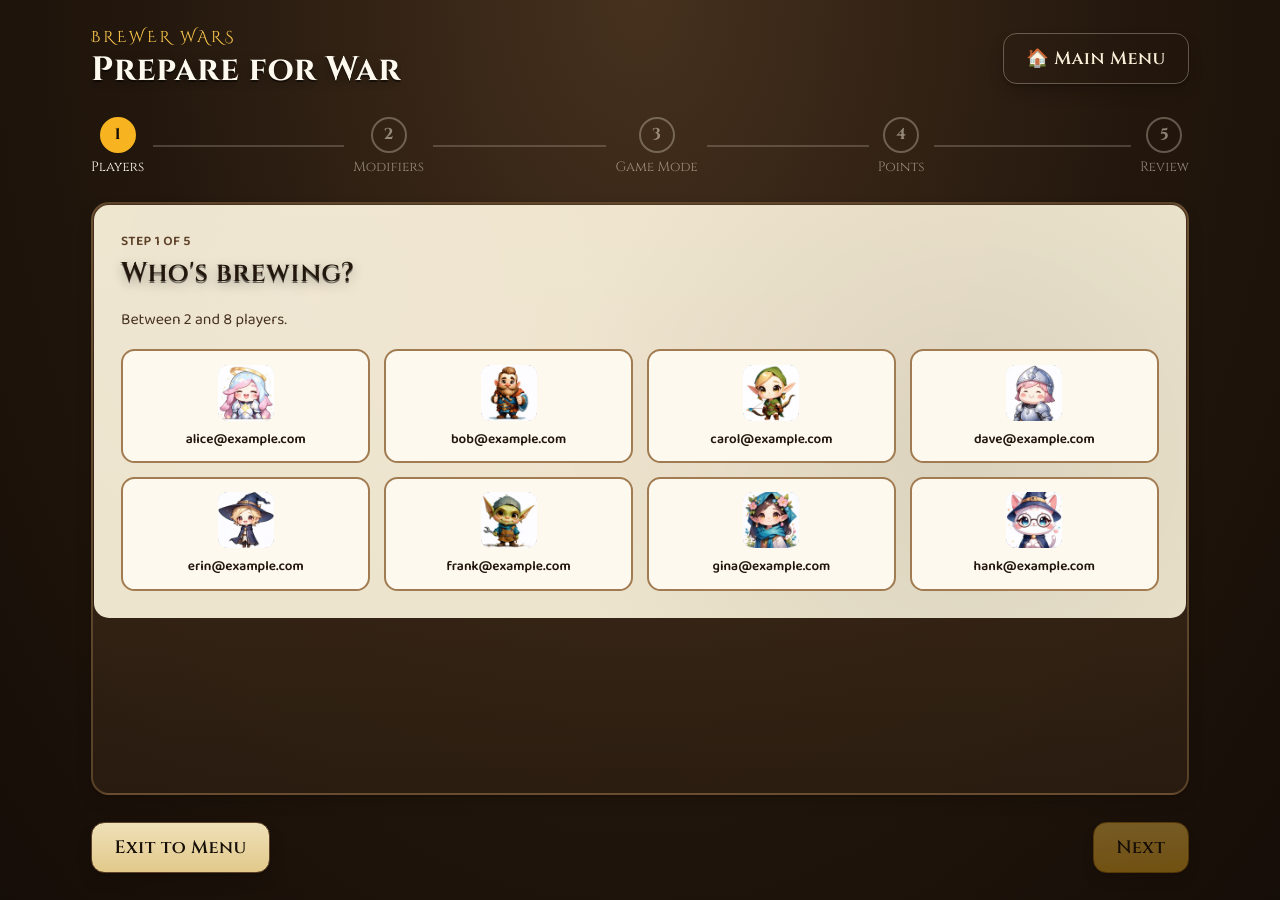
Test: WizardPage › toggles a card off when clicked again, dropping the player count below MIN_PLAYERS is allowed by the grid (Next disables itself)
What coordinates should you click on to do the following:
click the button "alice@example.com"
I would click on:
 (246, 406)
Its box is [121,350,370,464].
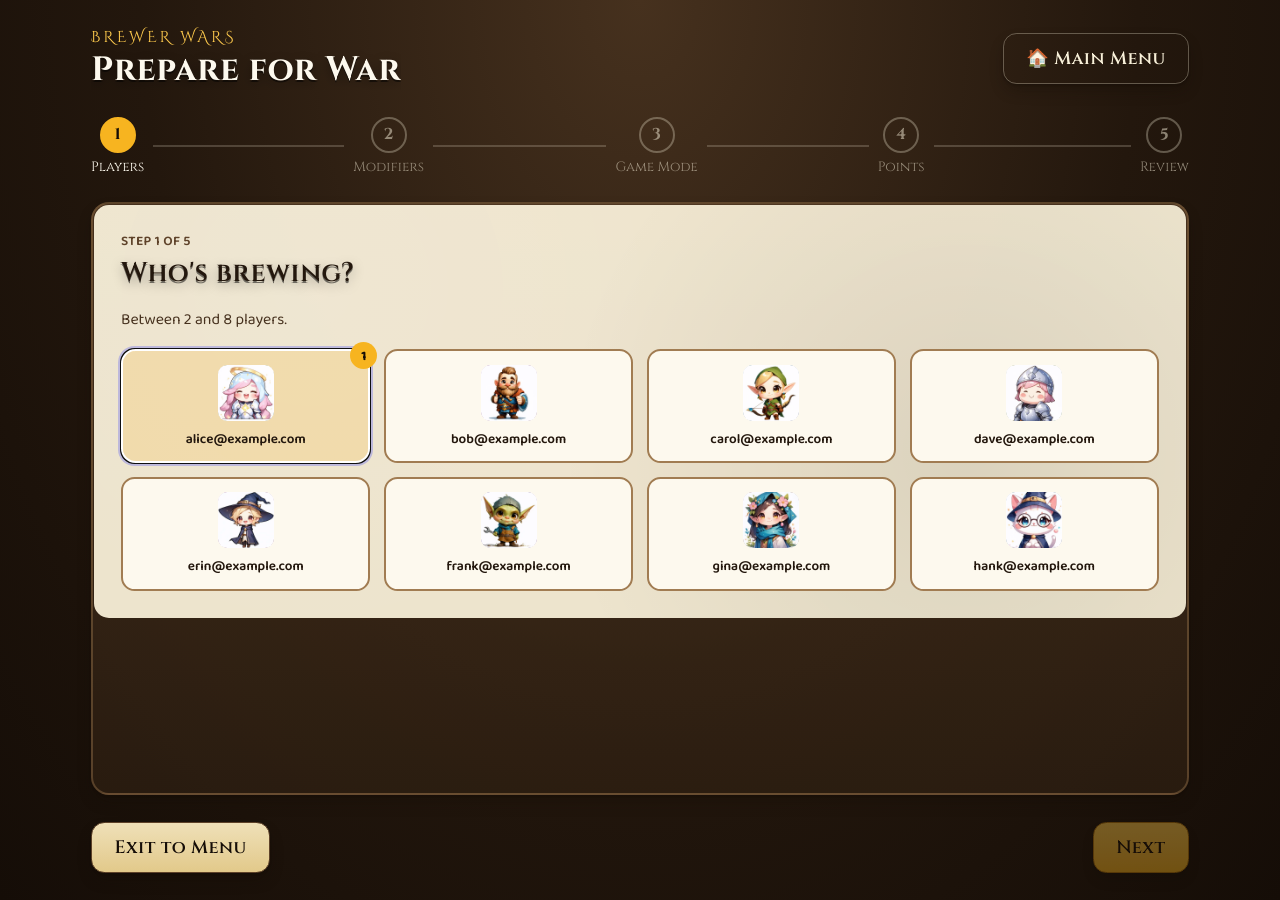
What coordinates should you click on to do the following:
click the button "bob@example.com"
I would click on:
 (509, 406)
Its box is [384,350,633,464].
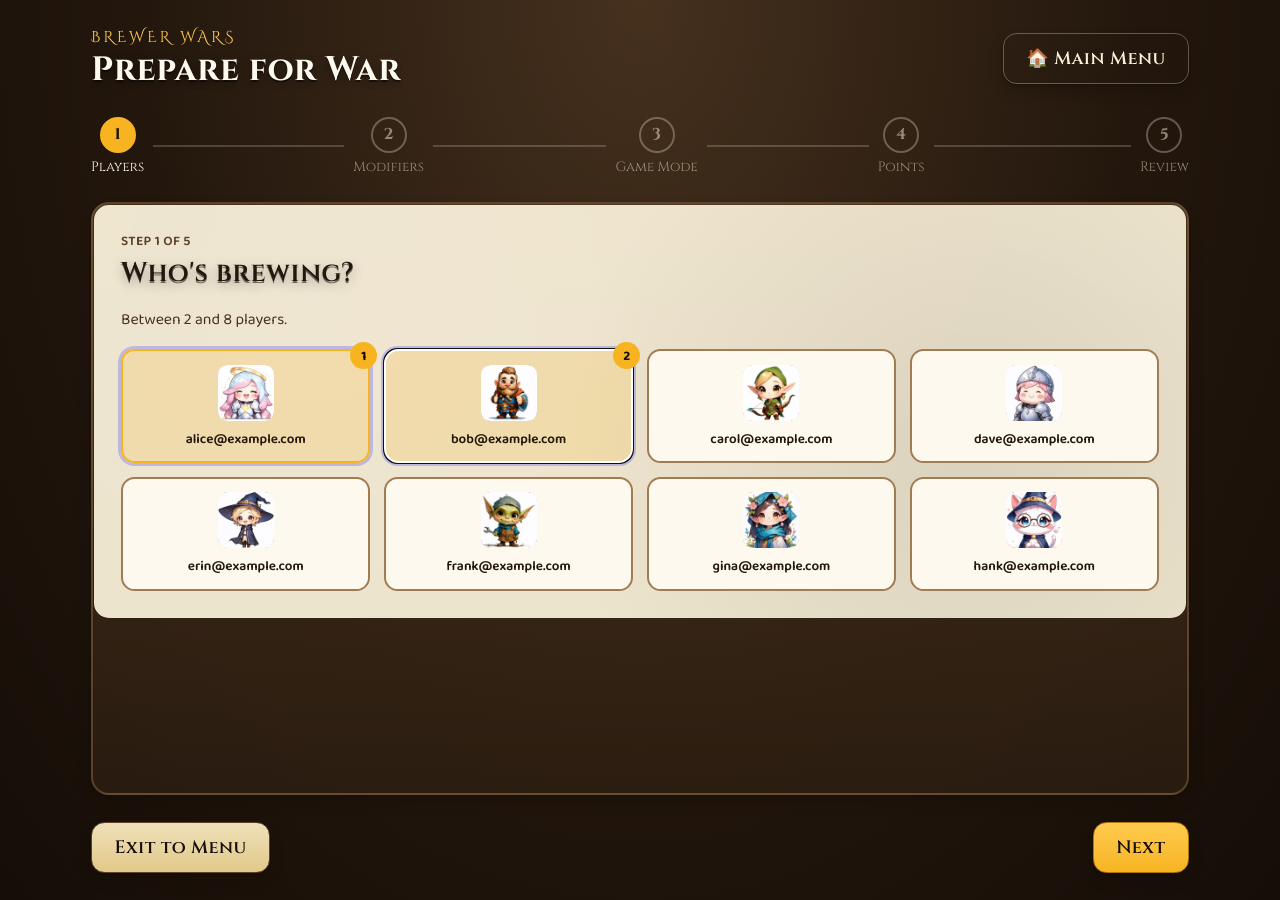
Result: the button "Next" is enabled at [1093,822,1189,873]
What coordinates should you click on to do the following:
click the button "1 alice@example.com"
I would click on:
 (246, 406)
Its box is [121,350,370,464].
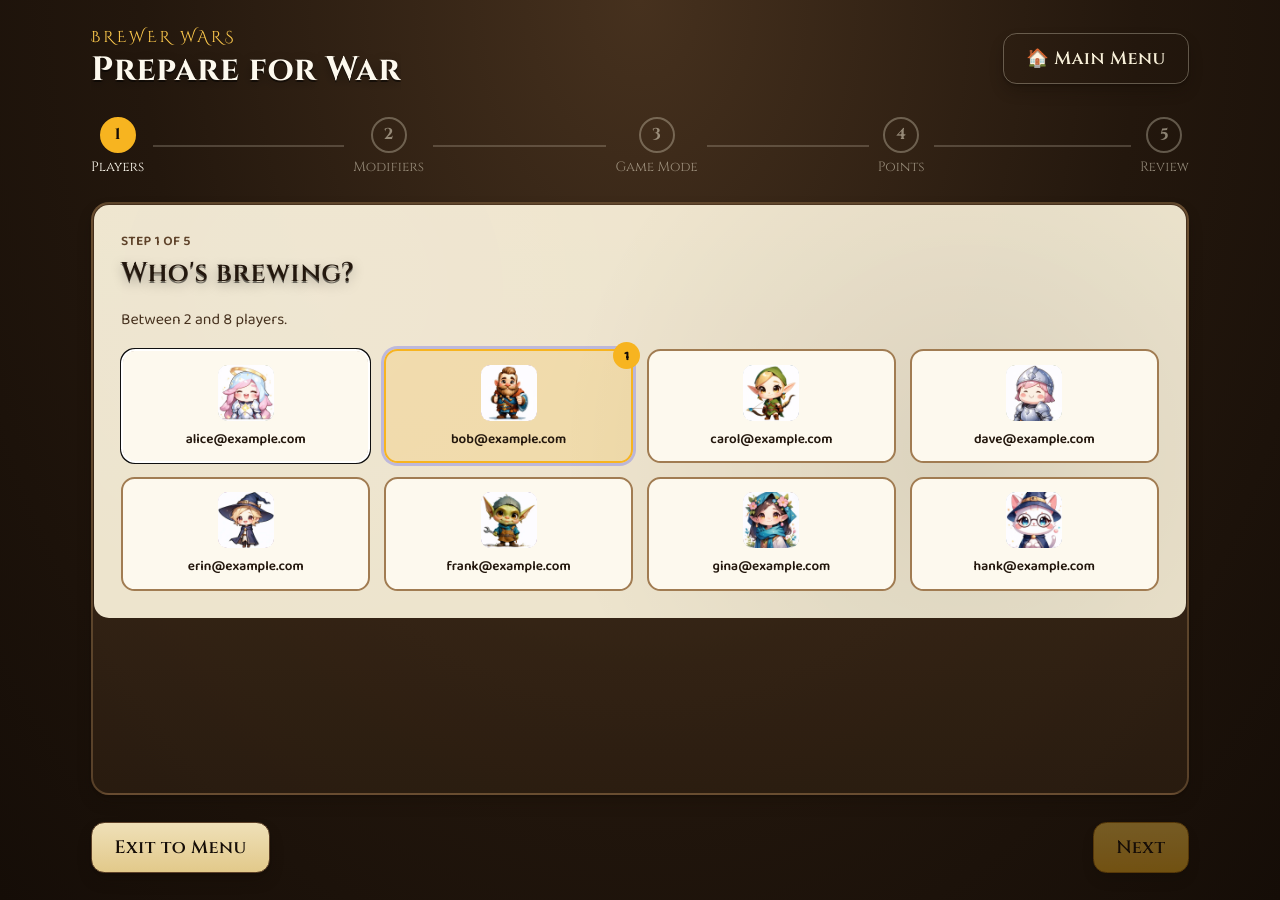
Result: the button "Next" is disabled at [1093,822,1189,873]
